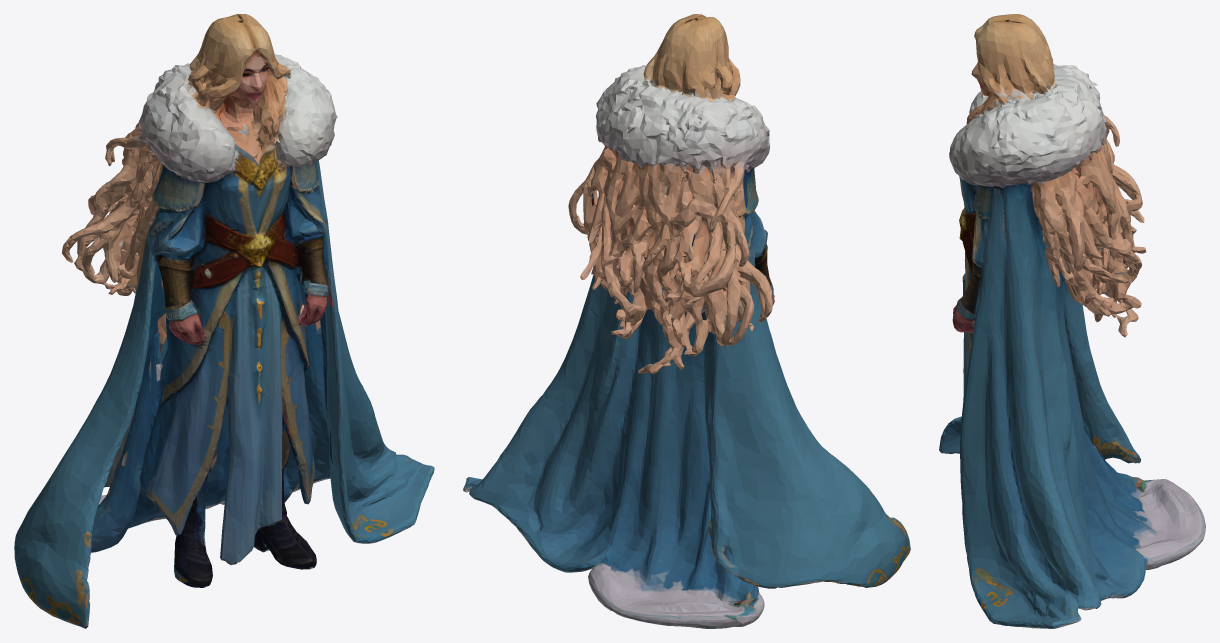
3 renders of one model, left to right at view 1: azimuth 30°, elevation 25°; view 2: azimuth 150°, elevation 25°; view 3: azimuth 270°, elevation 25°, orthographic. The views are drawn at different scales.
Visible parts, largest first — view 1: textured_mesh.obj; view 2: textured_mesh.obj; view 3: textured_mesh.obj.
Part boxes in pixels (x1,y1,x2,y2): textured_mesh.obj: [14, 14, 434, 628]; textured_mesh.obj: [463, 14, 910, 628]; textured_mesh.obj: [939, 14, 1205, 628].
Bounding box in the file's own units: 1.59 × 1.99 × 0.9017.
Materials: 1 (1 with a texture image).
